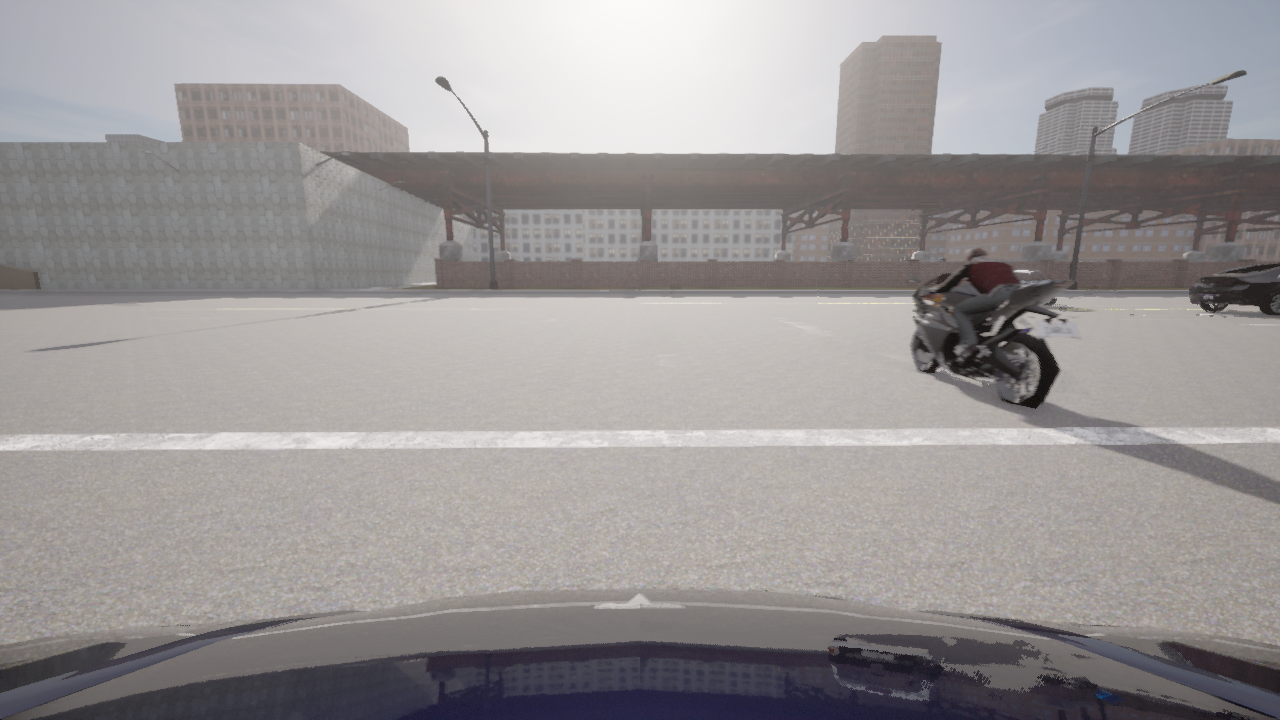cyclist: (0, 588, 1279, 719), (908, 272, 1081, 408), (1190, 263, 1279, 315), (1014, 269, 1055, 305), (902, 259, 947, 261)
